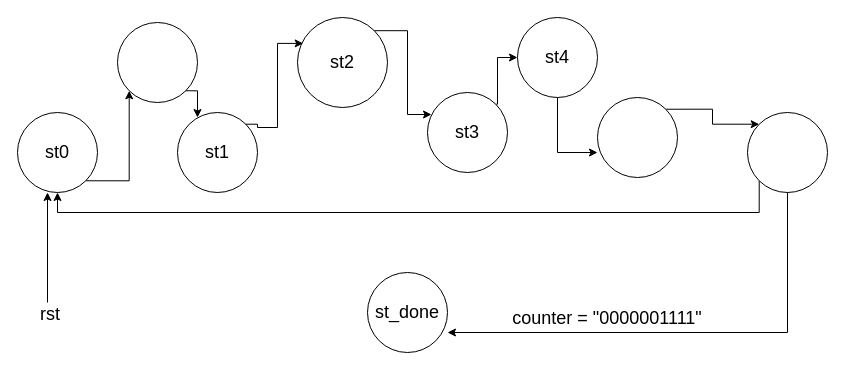
This 845x370 diagram has some shape labels left out. Each missing label, with the box of its shape:
st0_1: (116, 22, 198, 102)
st5: (596, 96, 678, 178)
st6: (746, 112, 828, 192)
